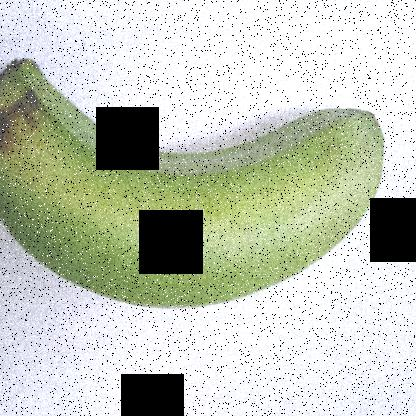freshunripe: (0, 39, 395, 332)
